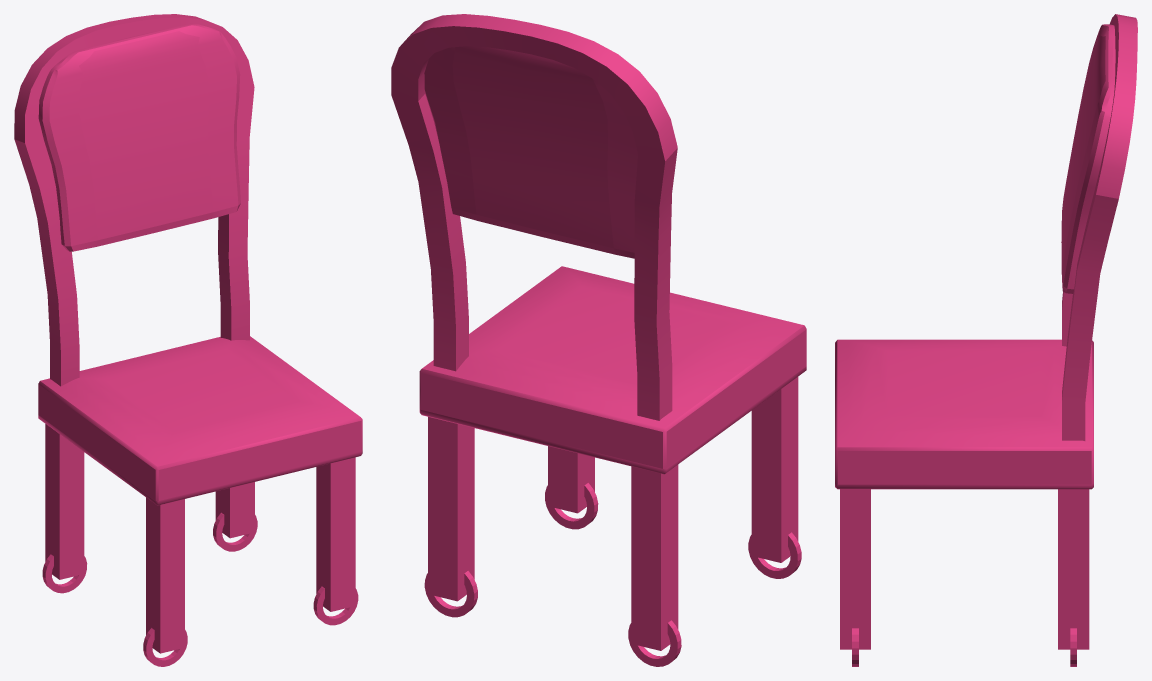
Rendered from chair18.fbx.
3 views of the same model, side by side, from view 1: azimuth 30°, elevation 25°; view 2: azimuth 150°, elevation 25°; view 3: azimuth 270°, elevation 25° (orthographic). The views are drawn at different scales.
Parts seen in each view (by area): view 1: Chair18; view 2: Chair18; view 3: Chair18.
Part boxes in pixels (x1,y1,x2,y2): Chair18: [14, 14, 362, 666]; Chair18: [391, 14, 806, 666]; Chair18: [835, 14, 1137, 666].
Size of the model in its own units: 51.86 by 115 by 54.68.
